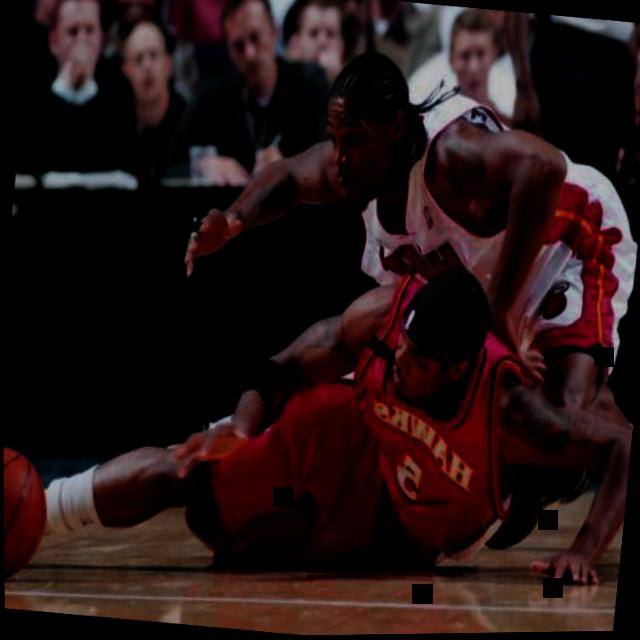Fall-Detected: (1, 200, 640, 626)
